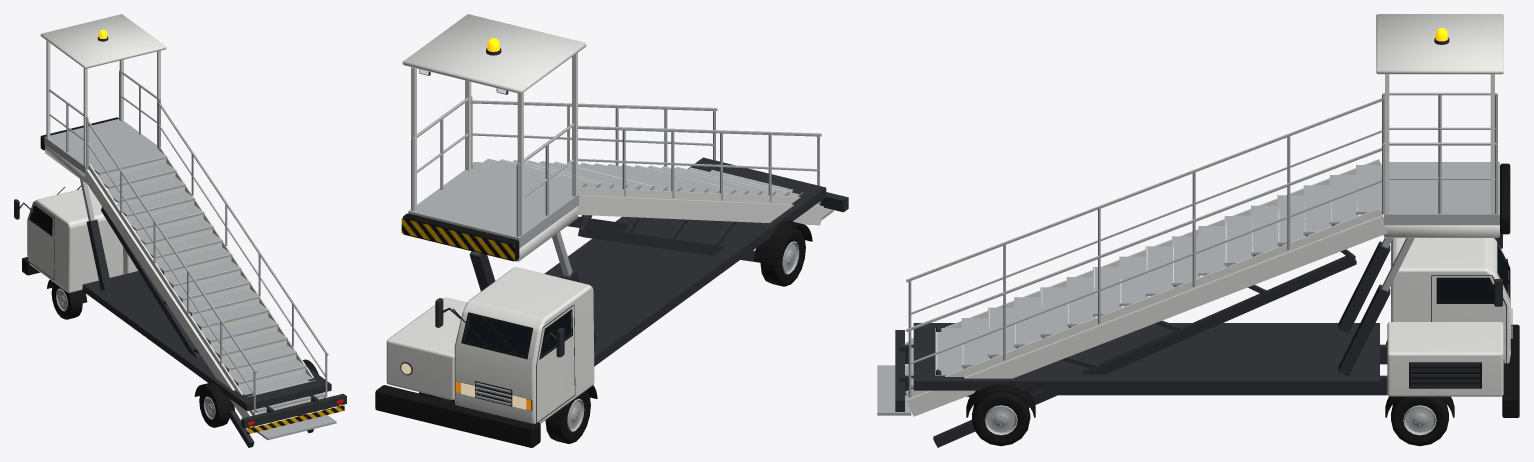
File: stairs_truck.glb
3 renders of one model, left to right at view 1: azimuth 30°, elevation 25°; view 2: azimuth 150°, elevation 25°; view 3: azimuth 270°, elevation 25°, orthographic. The views are drawn at different scales.
Visible parts, largest first — view 1: Lift, Body, Wheels; view 2: Body, Lift, Wheels; view 3: Lift, Body, Wheels.
Part boxes in pixels (x1,y1,x2,y2): Lift: (40,14,336,447); Body: (14,185,346,434); Wheels: (51,283,230,427); Body: (375,157,848,447); Lift: (401,14,833,344); Wheels: (419,228,805,443); Lift: (877,14,1510,447); Body: (895,232,1519,417); Wheels: (972,392,1448,446).
Size of what is drawn, in the model's own units: 2.74 by 6.01 by 8.82.
8 materials, 2 textured.
